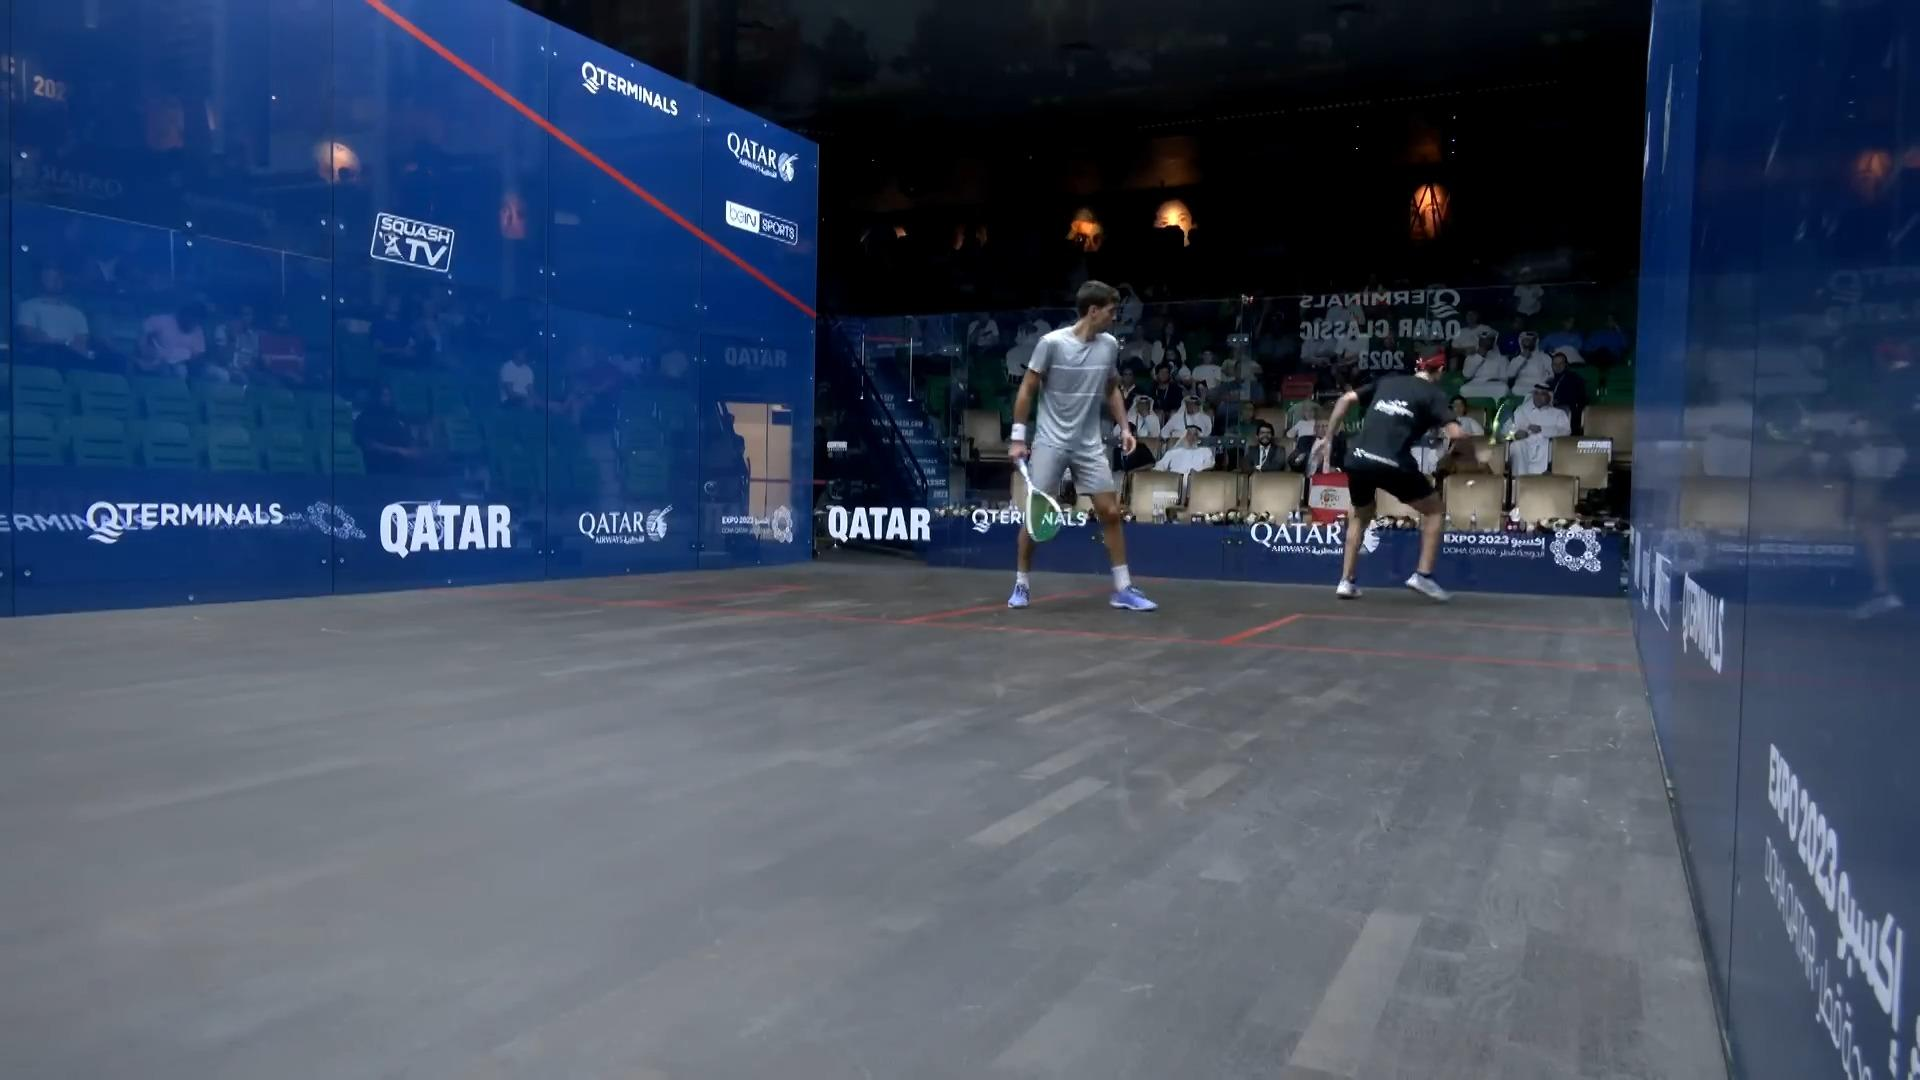Racket: (1014, 464, 1069, 546), (1477, 394, 1526, 455)
